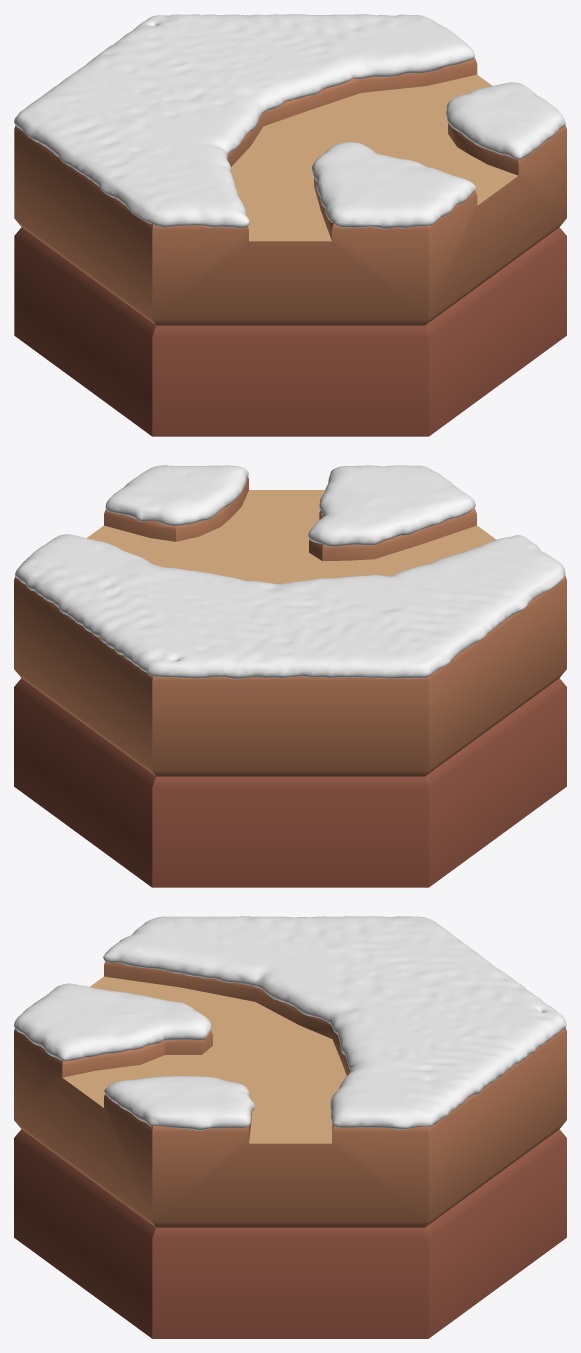
File: hex_rock_roadH_detail.fbx
The picture shows the model from 3 angles, top to bottom: view 1: azimuth 30°, elevation 25°; view 2: azimuth 150°, elevation 25°; view 3: azimuth 270°, elevation 25°; orthographic projection.
Visible parts, largest first — view 1: SnowBall.001, hex_rock_roadH_detail.002, hex_rock_roadH_detail.001, hex_rock_roadH_detail; view 2: SnowBall.001, hex_rock_roadH_detail.002, hex_rock_roadH_detail.001, hex_rock_roadH_detail; view 3: SnowBall.001, hex_rock_roadH_detail.002, hex_rock_roadH_detail.001, hex_rock_roadH_detail.
Boxes of the visible parts, <box> form: SnowBall.001: <box>14,14,565,229</box>; hex_rock_roadH_detail.002: <box>14,227,566,436</box>; hex_rock_roadH_detail.001: <box>14,57,566,325</box>; hex_rock_roadH_detail: <box>231,74,518,241</box>; SnowBall.001: <box>15,465,565,679</box>; hex_rock_roadH_detail.002: <box>14,678,566,887</box>; hex_rock_roadH_detail.001: <box>14,477,566,776</box>; hex_rock_roadH_detail: <box>87,490,496,583</box>; SnowBall.001: <box>14,916,566,1130</box>; hex_rock_roadH_detail.002: <box>14,1129,566,1338</box>; hex_rock_roadH_detail.001: <box>14,961,566,1227</box>; hex_rock_roadH_detail: <box>63,976,346,1143</box>.
Size of the model in its own units: 204 by 104 by 231.
